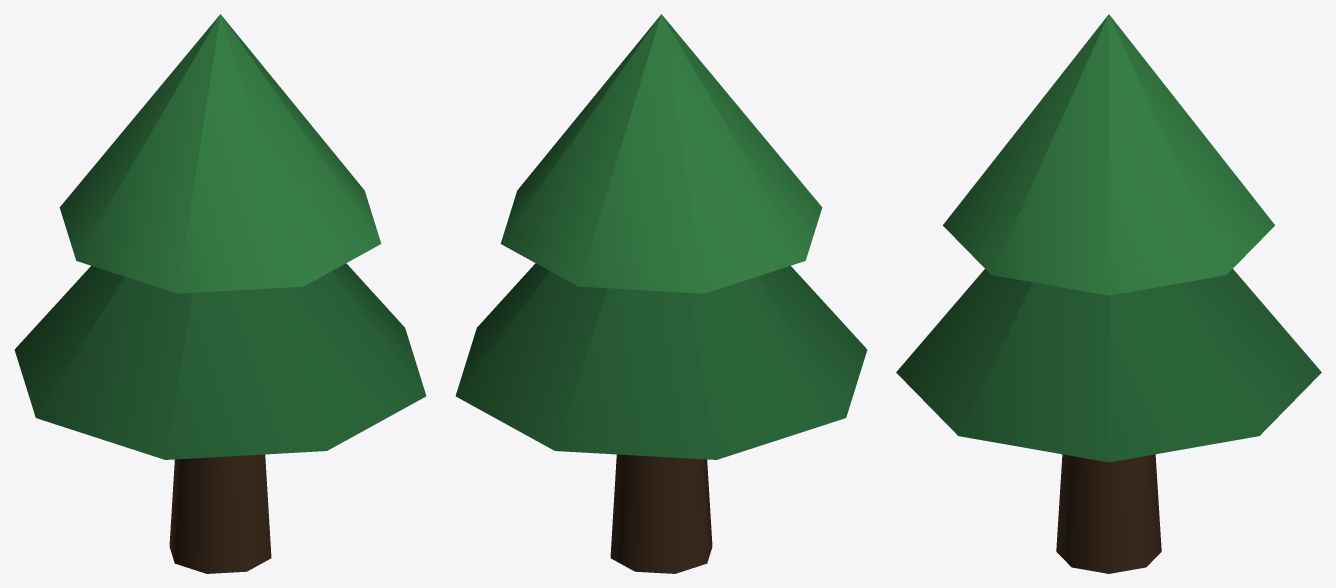
File: tree_broad.glb
3 renders of one model, left to right at view 1: azimuth 30°, elevation 25°; view 2: azimuth 150°, elevation 25°; view 3: azimuth 270°, elevation 25°, orthographic.
Parts seen in each view (by area): view 1: CanopyLower, CanopyUpper, Trunk; view 2: CanopyLower, CanopyUpper, Trunk; view 3: CanopyLower, CanopyUpper, Trunk.
Part boxes in pixels (x1,y1,x2,y2): CanopyLower: [14, 263, 426, 459]; CanopyUpper: [59, 14, 381, 293]; Trunk: [169, 454, 271, 573]; CanopyLower: [455, 263, 867, 459]; CanopyUpper: [500, 14, 822, 293]; Trunk: [610, 454, 712, 573]; CanopyLower: [896, 269, 1321, 462]; CanopyUpper: [943, 14, 1274, 295]; Trunk: [1056, 454, 1161, 573].
Bounding box in the file's own units: 2.1 × 2.92 × 2.1.
